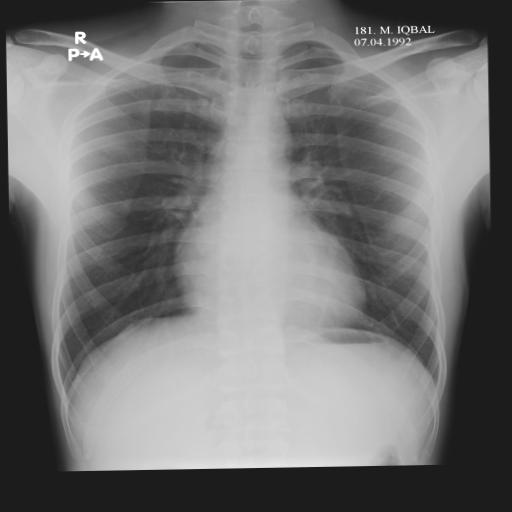normal: (36, 10, 454, 400)
